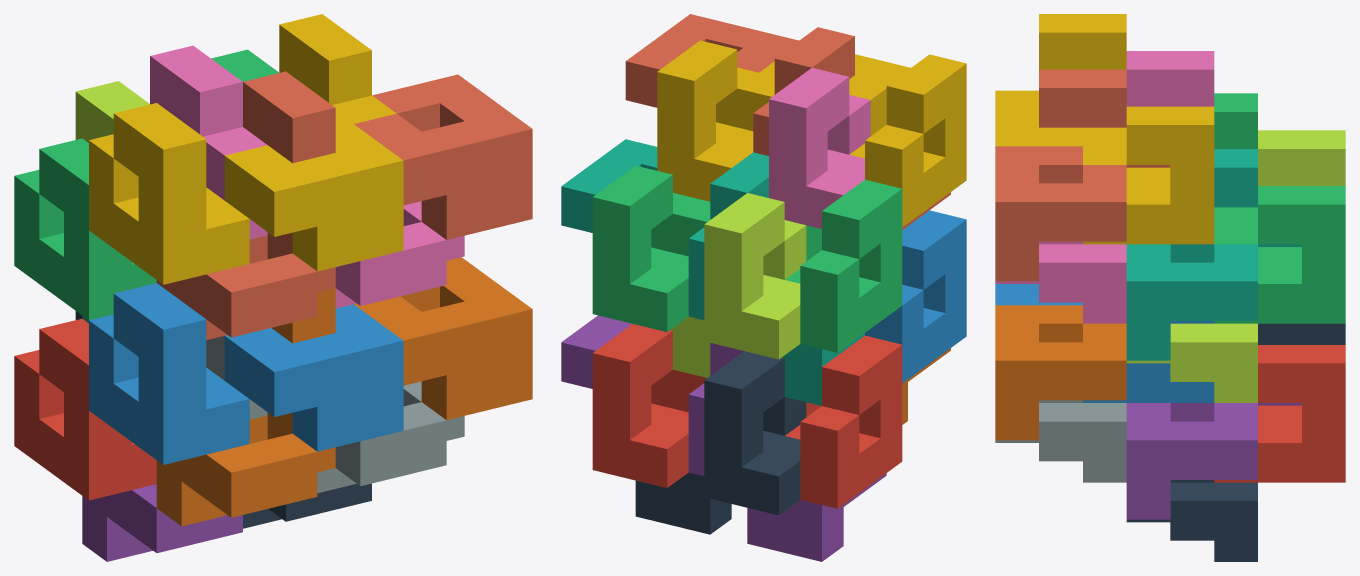
Rendered from tiling.obj.
3 renders of one model, left to right at view 1: azimuth 30°, elevation 25°; view 2: azimuth 150°, elevation 25°; view 3: azimuth 270°, elevation 25°, orthographic. The views are drawn at different scales.
Visible parts, largest first — view 1: copy_1_domain_2, copy_1_domain_4, copy_4_domain_8, copy_4_domain_4, copy_4_domain_2, copy_4_domain_6, copy_1_domain_1, copy_1_domain_3, copy_3_domain_2, copy_3_domain_4, copy_2_domain_4, copy_2_domain_8 (+9 smaller); view 2: copy_2_domain_3, copy_1_domain_1, copy_1_domain_3, copy_2_domain_1, copy_2_domain_7, copy_2_domain_5, copy_2_domain_4, copy_1_domain_4, copy_2_domain_8, copy_1_domain_2, copy_4_domain_8, copy_3_domain_1 (+11 smaller); view 3: copy_4_domain_6, copy_4_domain_8, copy_2_domain_8, copy_2_domain_7, copy_2_domain_5, copy_4_domain_5, copy_4_domain_7, copy_3_domain_5, copy_3_domain_6, copy_3_domain_8, copy_3_domain_7, copy_1_domain_8 (+10 smaller).
Boxes of the visible parts, left/top/right/bottom form: copy_1_domain_2: left=89, top=283, right=249, bottom=464; copy_1_domain_4: left=89, top=103, right=249, bottom=284; copy_4_domain_8: left=354, top=74, right=532, bottom=239; copy_4_domain_4: left=224, top=111, right=403, bottom=271; copy_4_domain_2: left=224, top=304, right=403, bottom=451; copy_4_domain_6: left=354, top=257, right=532, bottom=420; copy_1_domain_1: left=14, top=318, right=156, bottom=500; copy_1_domain_3: left=14, top=138, right=156, bottom=320; copy_3_domain_2: left=156, top=415, right=335, bottom=526; copy_3_domain_4: left=156, top=235, right=335, bottom=339; copy_2_domain_4: left=150, top=45, right=267, bottom=239; copy_2_domain_8: left=279, top=14, right=396, bottom=123; copy_2_domain_3: left=704, top=193, right=806, bottom=359; copy_1_domain_1: left=785, top=335, right=902, bottom=508; copy_1_domain_3: left=785, top=179, right=902, bottom=352; copy_2_domain_1: left=704, top=351, right=806, bottom=515; copy_2_domain_7: left=592, top=165, right=693, bottom=331; copy_2_domain_5: left=592, top=324, right=688, bottom=487; copy_2_domain_4: left=769, top=67, right=870, bottom=228; copy_1_domain_4: left=849, top=54, right=966, bottom=227; copy_2_domain_8: left=657, top=40, right=758, bottom=201; copy_1_domain_2: left=865, top=210, right=966, bottom=383; copy_4_domain_8: left=625, top=14, right=798, bottom=107; copy_3_domain_1: left=747, top=473, right=886, bottom=561; copy_4_domain_6: left=995, top=305, right=1126, bottom=440; copy_4_domain_8: left=995, top=146, right=1126, bottom=281; copy_2_domain_8: left=1083, top=106, right=1214, bottom=244; copy_2_domain_7: left=1214, top=186, right=1345, bottom=323; copy_2_domain_5: left=1214, top=345, right=1345, bottom=482; copy_4_domain_5: left=1126, top=403, right=1257, bottom=519; copy_4_domain_7: left=1126, top=244, right=1257, bottom=360; copy_3_domain_5: left=1126, top=480, right=1257, bottom=561; copy_3_domain_6: left=995, top=400, right=1126, bottom=482; copy_3_domain_8: left=995, top=241, right=1126, bottom=323; copy_3_domain_7: left=1126, top=323, right=1257, bottom=402; copy_1_domain_8: left=1039, top=69, right=1170, bottom=167.
Size of the model in its own units: 8 by 11 by 8.
